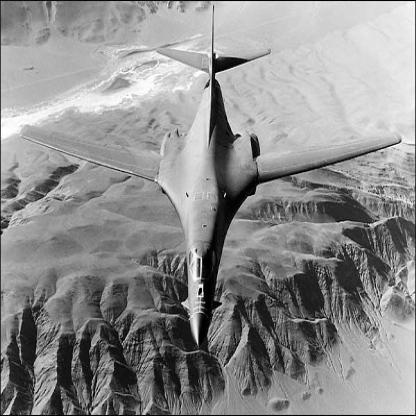B1: (20, 4, 403, 348)
